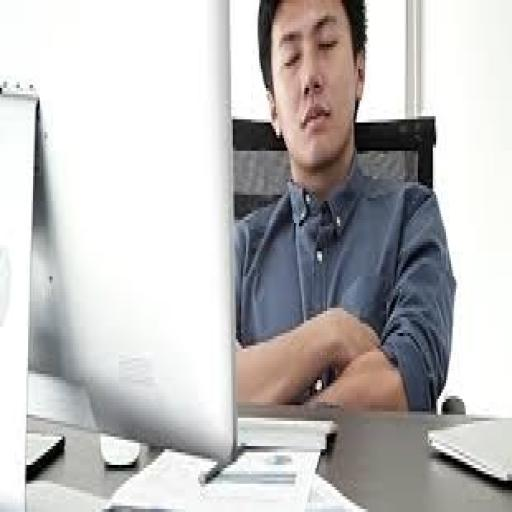sleeping: (231, 0, 458, 415)
